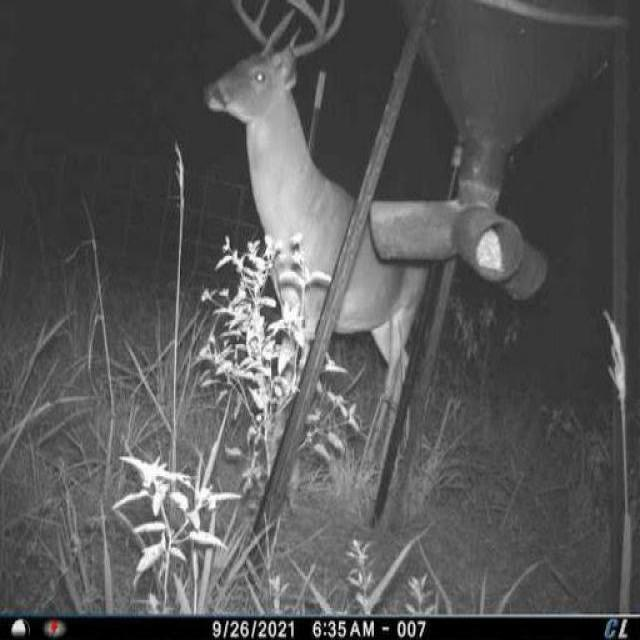deer: (197, 0, 431, 493)
